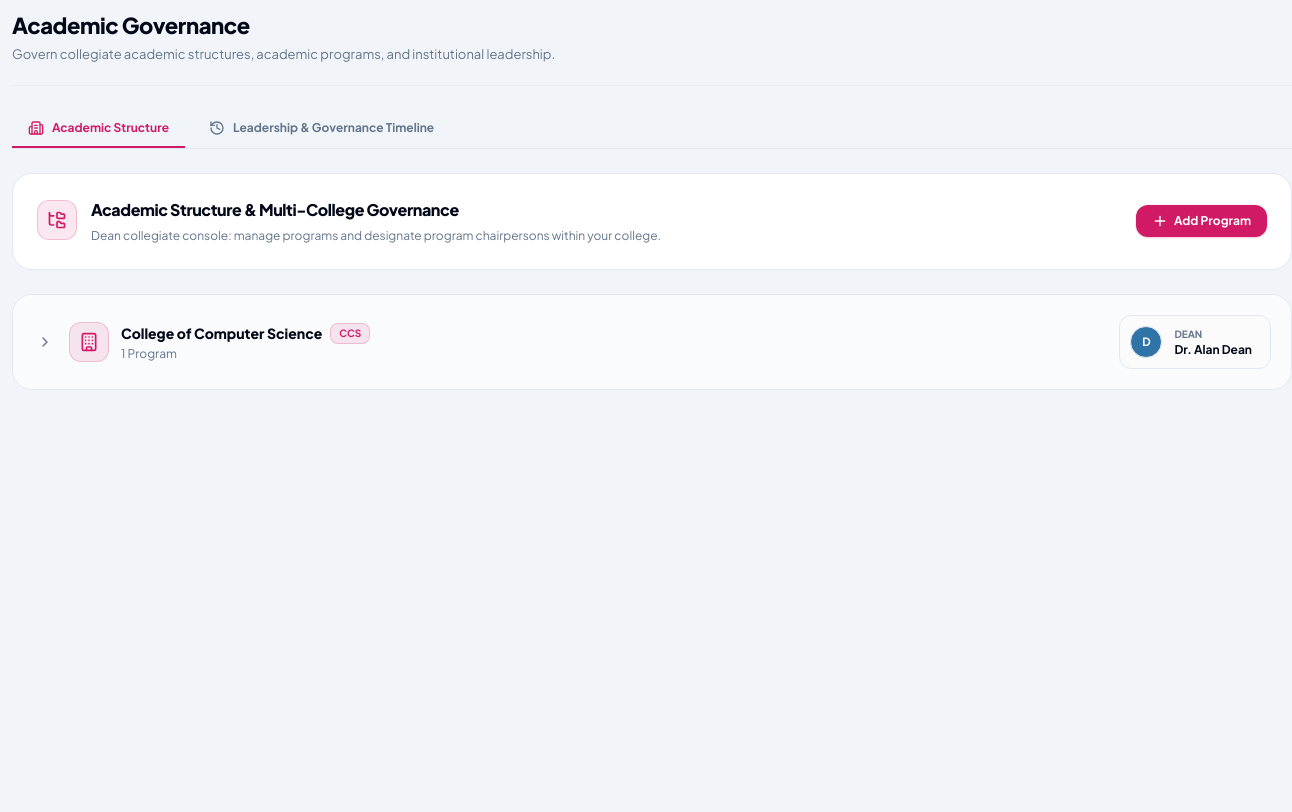
it: AcademicGovernancePage › collapses and expands college card hiding and showing department rows on click
// Click toggle button for the college to expand it
Click the button with aria-label "Toggle programs for College of Computer Science" at [89, 342], box left=13, top=295, right=1291, bottom=389
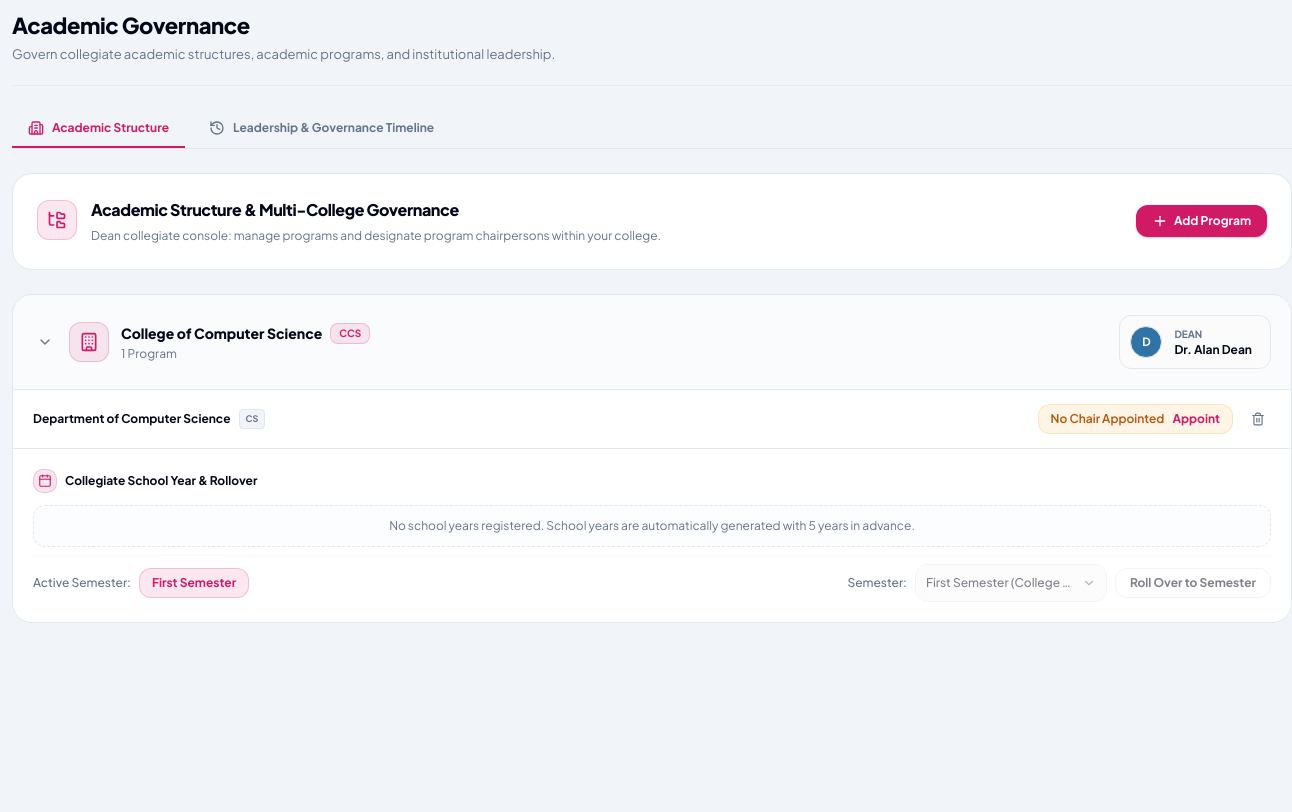
Result: the button with aria-label "Toggle programs for College of Computer Science" is expanded
Result: the text "Department of Computer Science" is shown at left=33, top=411, right=230, bottom=427
// Click toggle again to minimize/collapse
Click the button with aria-label "Toggle programs for College of Computer Science" at [89, 342], box left=13, top=295, right=1291, bottom=390
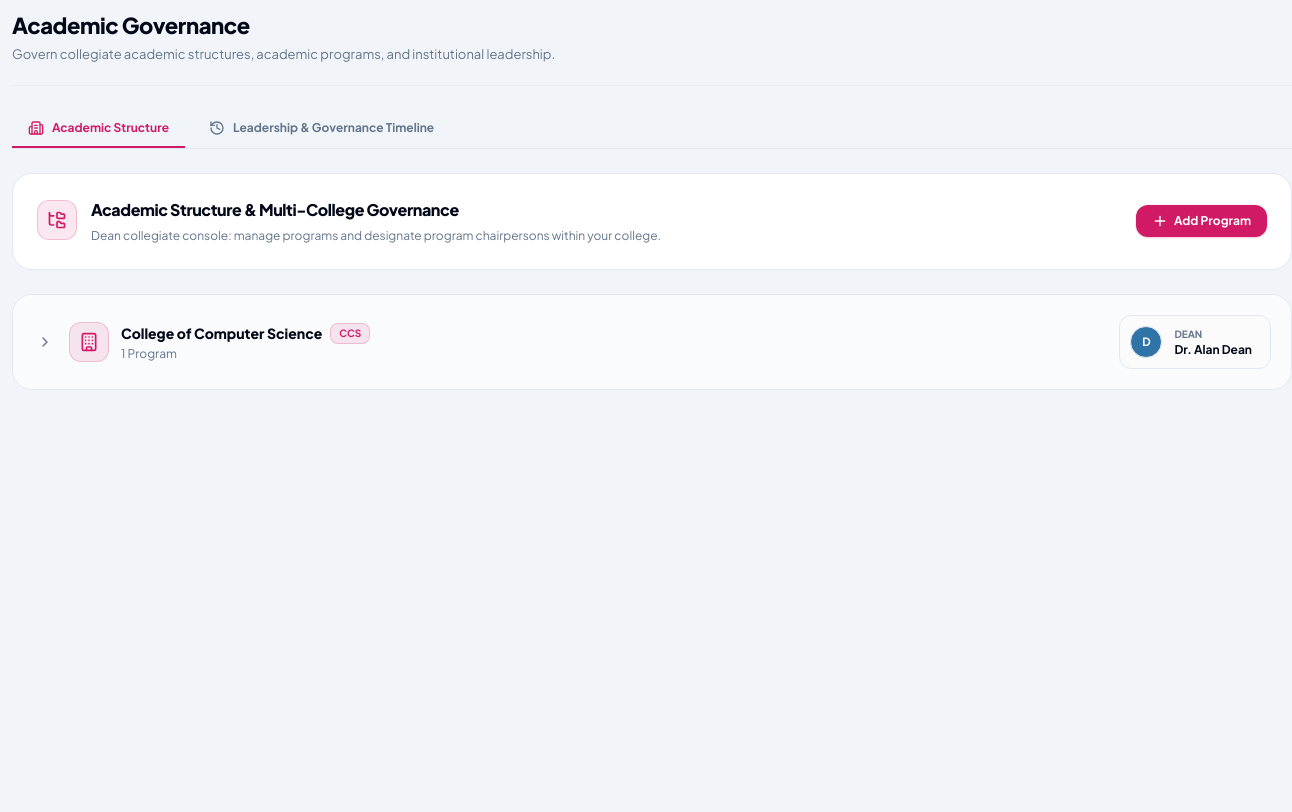
Result: the button with aria-label "Toggle programs for College of Computer Science" is collapsed at left=13, top=295, right=1291, bottom=389
